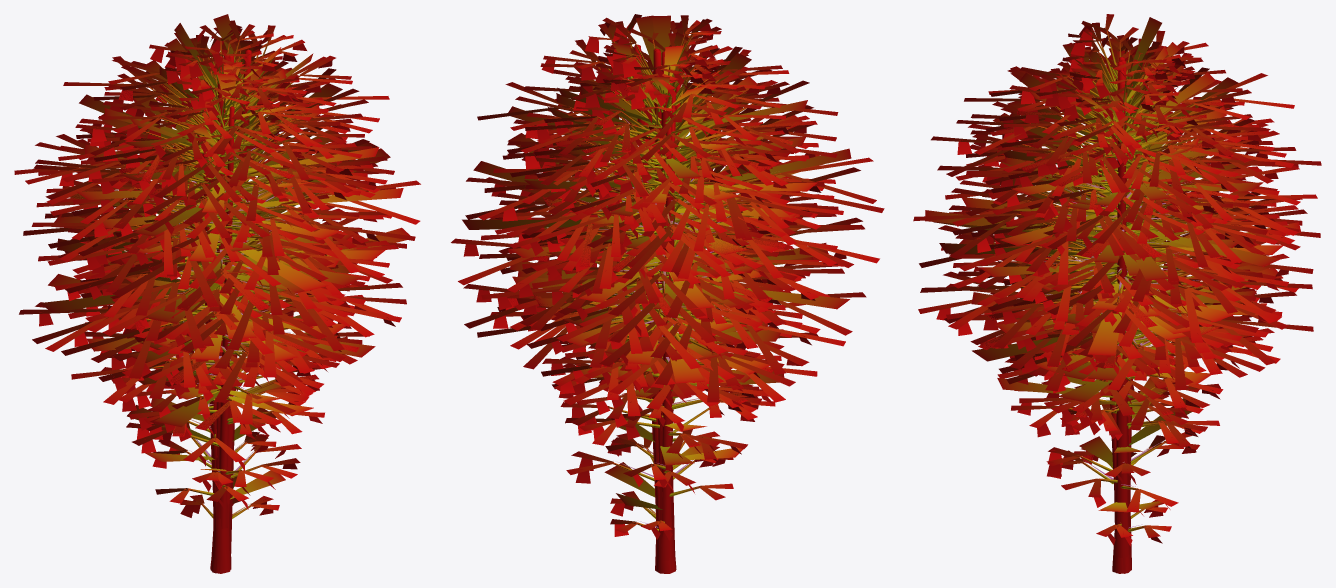
File: beech.glb
3 views of the same model, side by side, from view 1: azimuth 30°, elevation 25°; view 2: azimuth 150°, elevation 25°; view 3: azimuth 270°, elevation 25° (orthographic).
Visible parts, largest first — view 1: v3, v9, v0, v8, v7, v4, v1, v5, v2, v6, v9_far, v3_far (+8 smaller); view 2: v3, v9, v0, v7, v1, v8, v4, v2, v5, v6, v3_far, v0_far (+8 smaller); view 3: v3, v9, v5, v0, v1, v4, v7, v2, v8, v6, v9_far, v5_far (+8 smaller).
Boxes of the visible parts, x1,y1,x2,y2 form: v3: [14, 42, 415, 427]; v9: [23, 58, 420, 573]; v0: [31, 25, 383, 571]; v8: [111, 34, 329, 573]; v7: [38, 27, 389, 398]; v4: [35, 39, 379, 376]; v1: [86, 20, 354, 491]; v5: [71, 25, 402, 573]; v2: [57, 33, 387, 317]; v6: [68, 49, 373, 573]; v9_far: [54, 58, 410, 357]; v3_far: [39, 38, 378, 427]; v3: [463, 19, 879, 416]; v9: [451, 46, 884, 557]; v0: [481, 45, 864, 573]; v7: [465, 22, 836, 396]; v1: [518, 15, 805, 469]; v8: [552, 39, 775, 572]; v4: [497, 21, 837, 388]; v2: [499, 18, 824, 308]; v5: [496, 14, 820, 573]; v6: [514, 33, 791, 573]; v3_far: [473, 47, 849, 386]; v0_far: [509, 15, 851, 558]; v3: [913, 24, 1321, 419]; v9: [919, 68, 1320, 573]; v5: [952, 58, 1302, 557]; v0: [958, 46, 1312, 573]; v1: [970, 22, 1263, 484]; v4: [957, 30, 1302, 365]; v7: [941, 27, 1298, 404]; v2: [951, 14, 1294, 313]; v8: [1011, 61, 1244, 573]; v6: [979, 49, 1278, 568]; v9_far: [925, 71, 1280, 361]; v5_far: [980, 46, 1256, 558].
Bounding box in the file's own units: 7.69 × 11.16 × 7.69.
